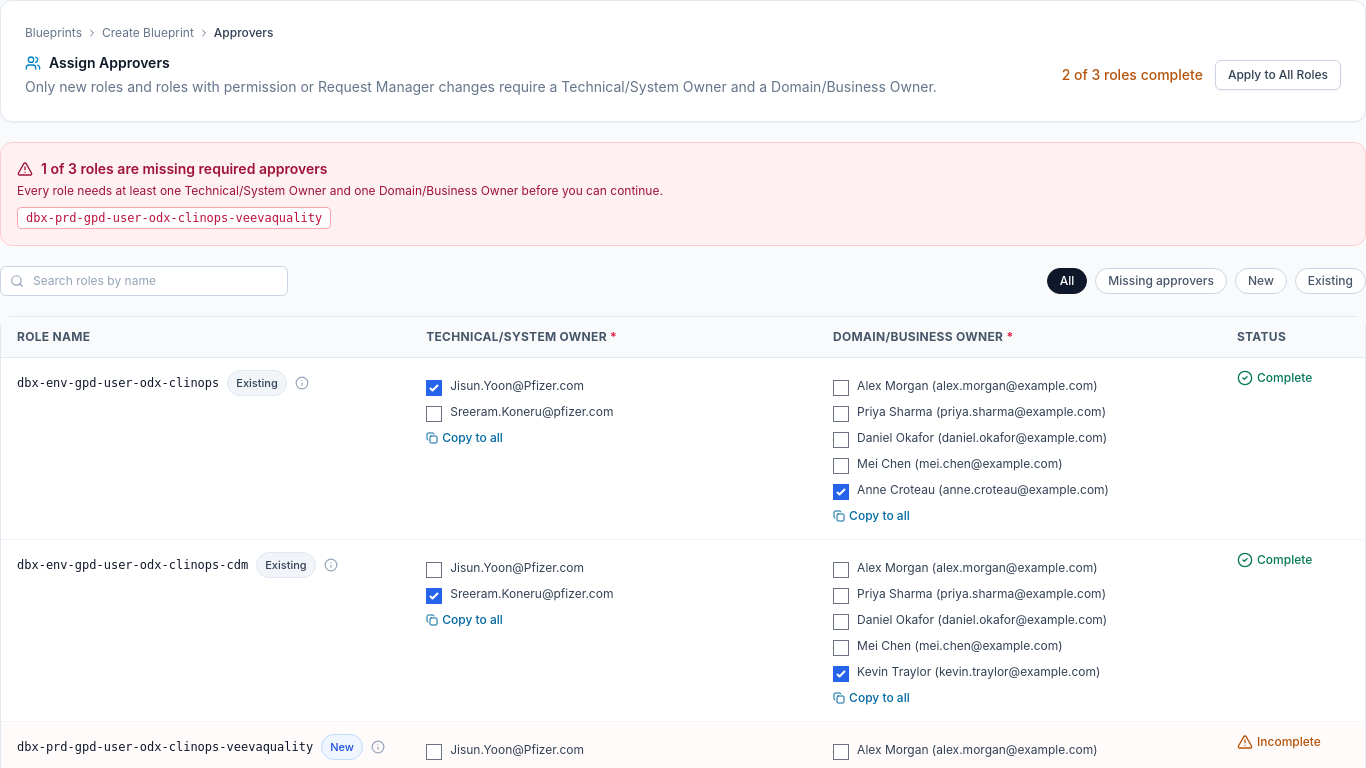
Test: BlueprintApproversForm › copies only technical owners to all roles that are missing them
Expected: the text "2 of 3 roles complete" is shown, [1062, 65, 1203, 85]
Click the button named "Copy Technical/System Owners of dbx-env-gpd-user-odx-clinops to all roles": (464, 438) [426, 430, 503, 446]
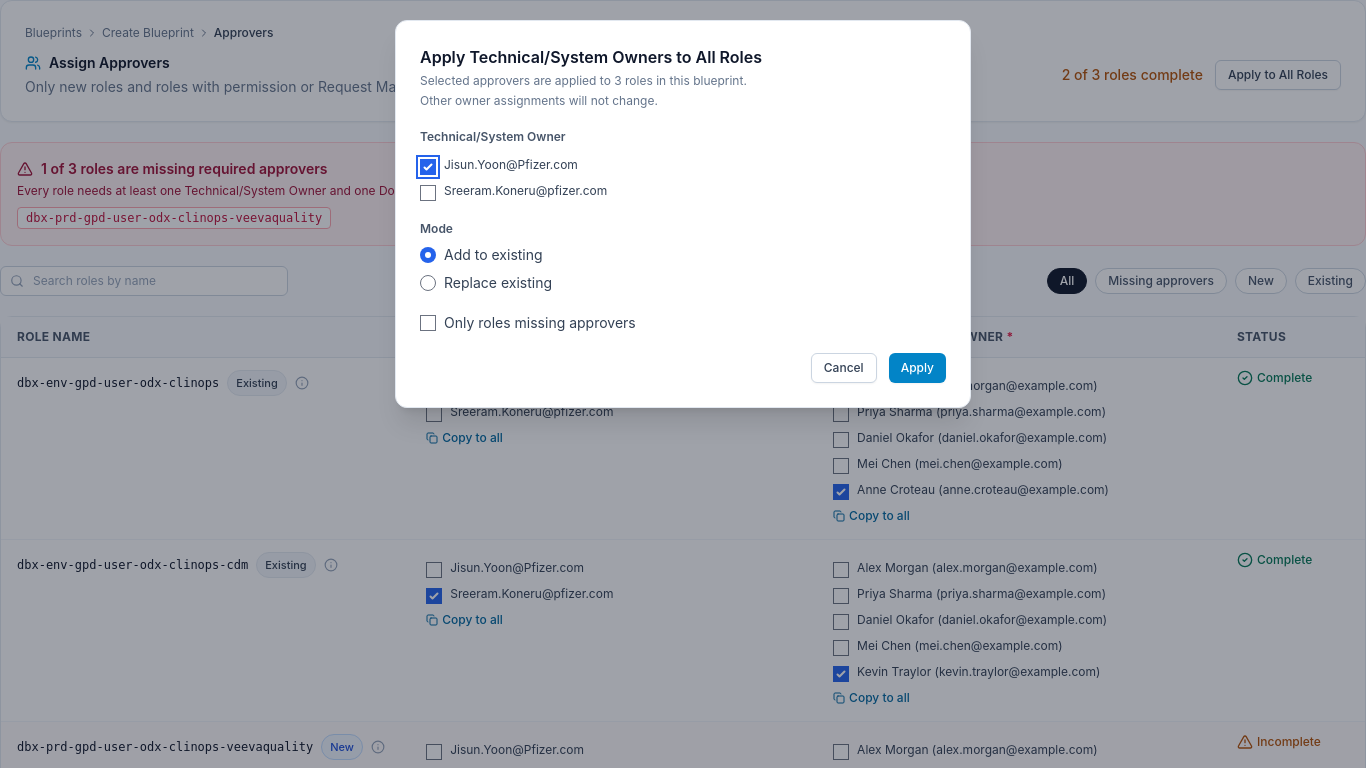
Click the checkbox labelled "Only roles missing approvers": (428, 323) [420, 315, 436, 331]
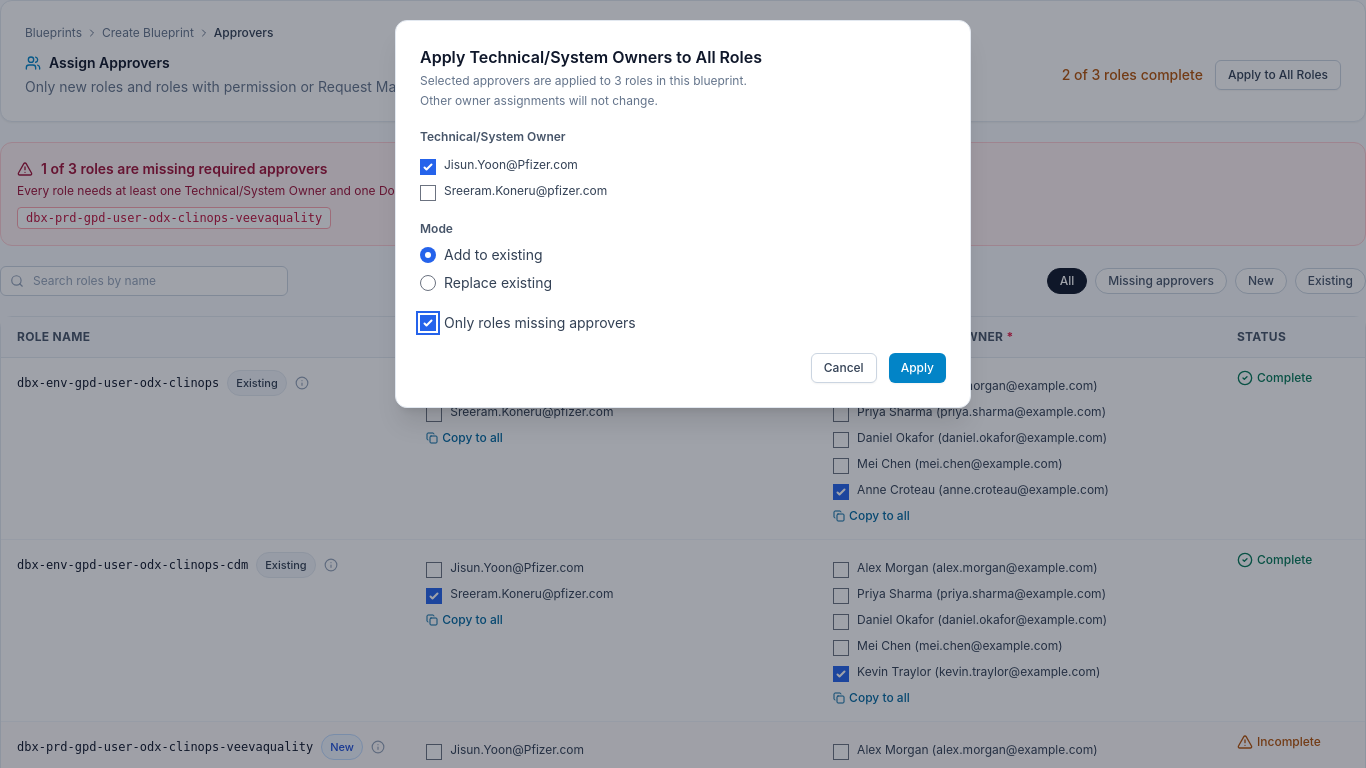
Click the button "Apply": (917, 368) [889, 353, 946, 383]
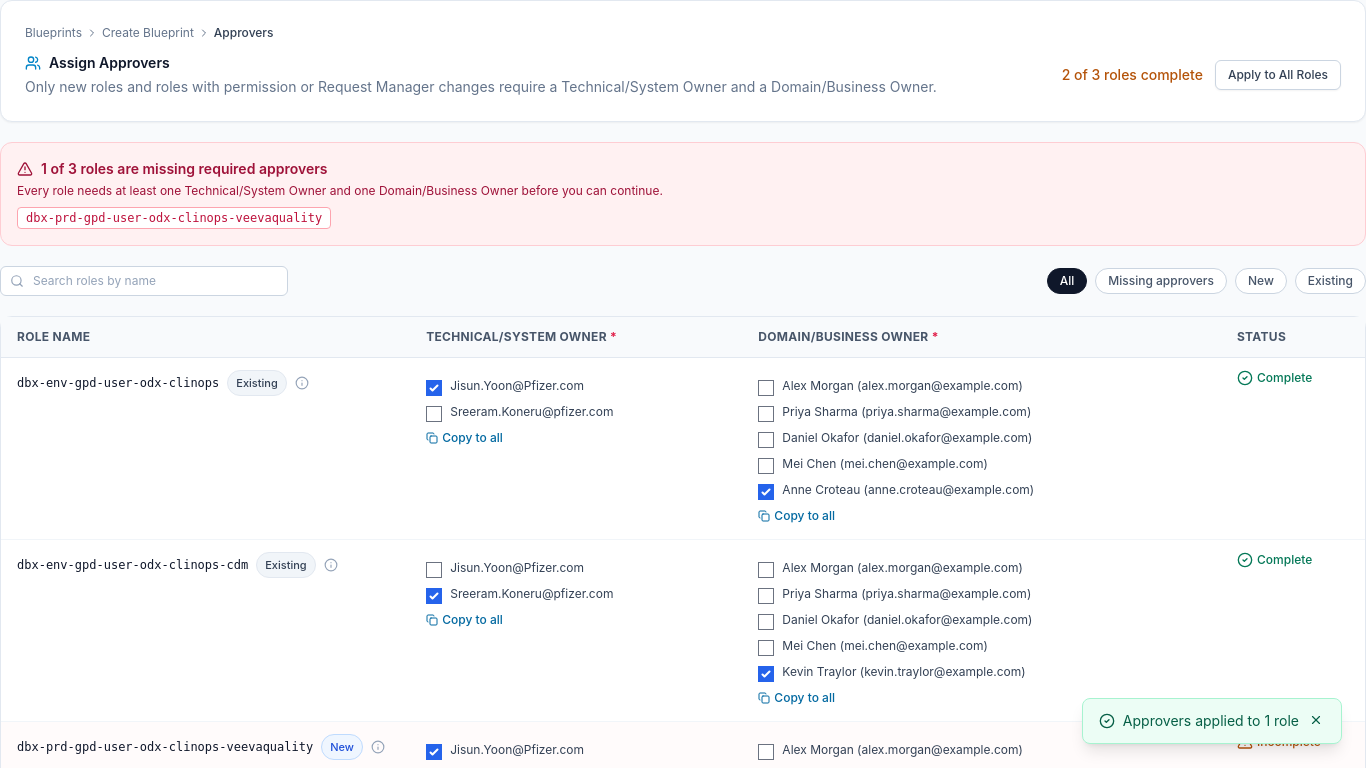
Expected: the text "Approvers applied to 1 role" is shown, [1123, 711, 1299, 731]
